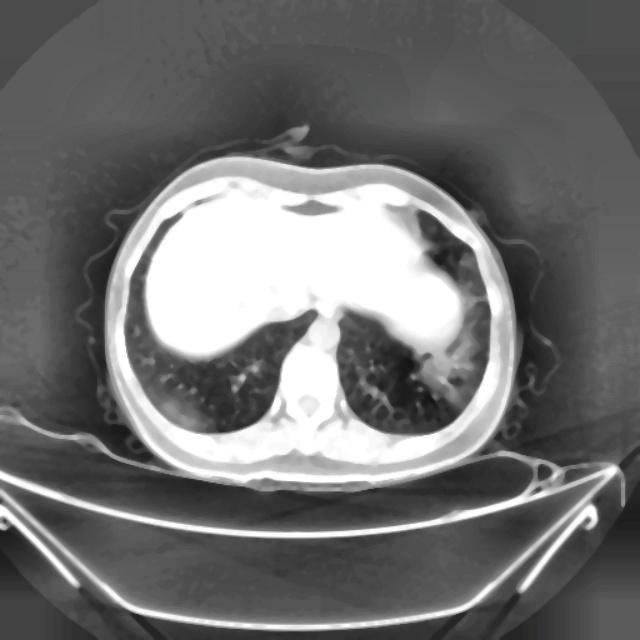covid: (95, 139, 522, 492)
